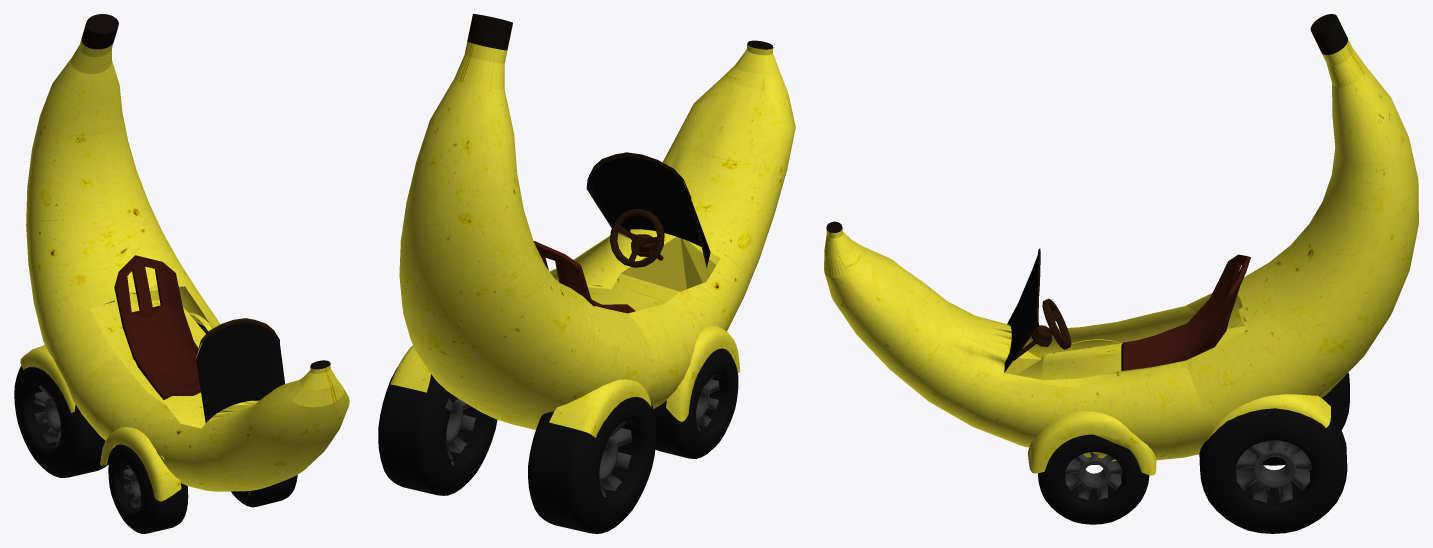
Rendered from Banana Car.FBX.
3 renders of one model, left to right at view 1: azimuth 30°, elevation 25°; view 2: azimuth 150°, elevation 25°; view 3: azimuth 270°, elevation 25°, orthographic. The views are drawn at different scales.
Parts seen in each view (by area): view 1: Plane001, Line001, Cylinder012, Cylinder008, Tube001, Tube002, Cylinder009; view 2: Plane001, Cylinder012, Cylinder010, Cylinder008, Tube002, Tube001, Cylinder001, Line001, Tube004; view 3: Plane001, Cylinder010, Cylinder009, Line001, Tube003, Tube004, Cylinder012, Cylinder001.
Part boxes in pixels (<box>): Plane001: <box>26,14,349,491</box>; Line001: <box>114,255,200,399</box>; Cylinder012: <box>14,366,113,477</box>; Cylinder008: <box>108,444,188,533</box>; Tube001: <box>100,427,181,501</box>; Tube002: <box>20,345,75,413</box>; Cylinder009: <box>231,475,297,507</box>; Plane001: <box>399,14,795,429</box>; Cylinder012: <box>528,397,656,533</box>; Cylinder010: <box>378,367,497,495</box>; Cylinder008: <box>653,348,738,458</box>; Tube002: <box>549,379,651,437</box>; Tube001: <box>666,325,740,421</box>; Cylinder001: <box>610,208,664,267</box>; Line001: <box>533,241,635,313</box>; Tube004: <box>390,345,430,392</box>; Plane001: <box>824,14,1418,461</box>; Cylinder010: <box>1199,408,1347,533</box>; Cylinder009: <box>1038,434,1149,524</box>; Line001: <box>1121,254,1250,370</box>; Tube003: <box>1027,411,1156,475</box>; Tube004: <box>1205,394,1330,441</box>; Cylinder012: <box>1263,372,1349,465</box>; Cylinder001: <box>1042,298,1071,349</box>.
Bounding box in the file's own units: 129 × 294 × 337.
Materials: 8 (1 with a texture image).
